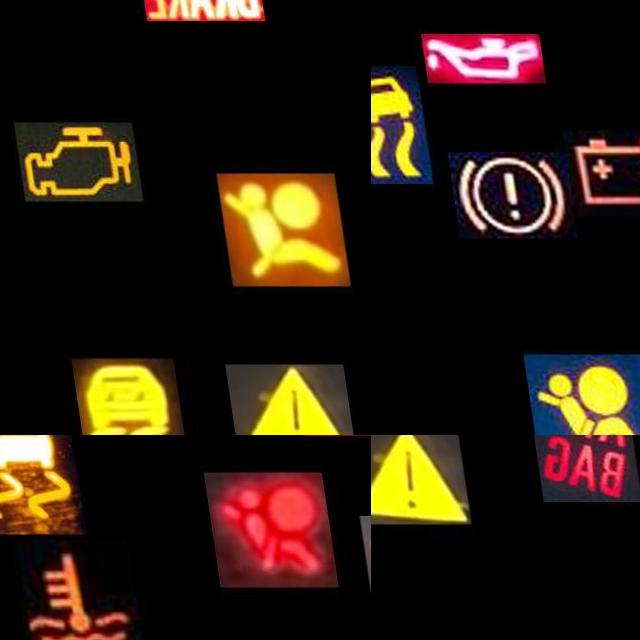Central Warning lamp: (212, 364, 342, 435), (371, 435, 455, 524)
Engine cooling system: (0, 539, 127, 640)
